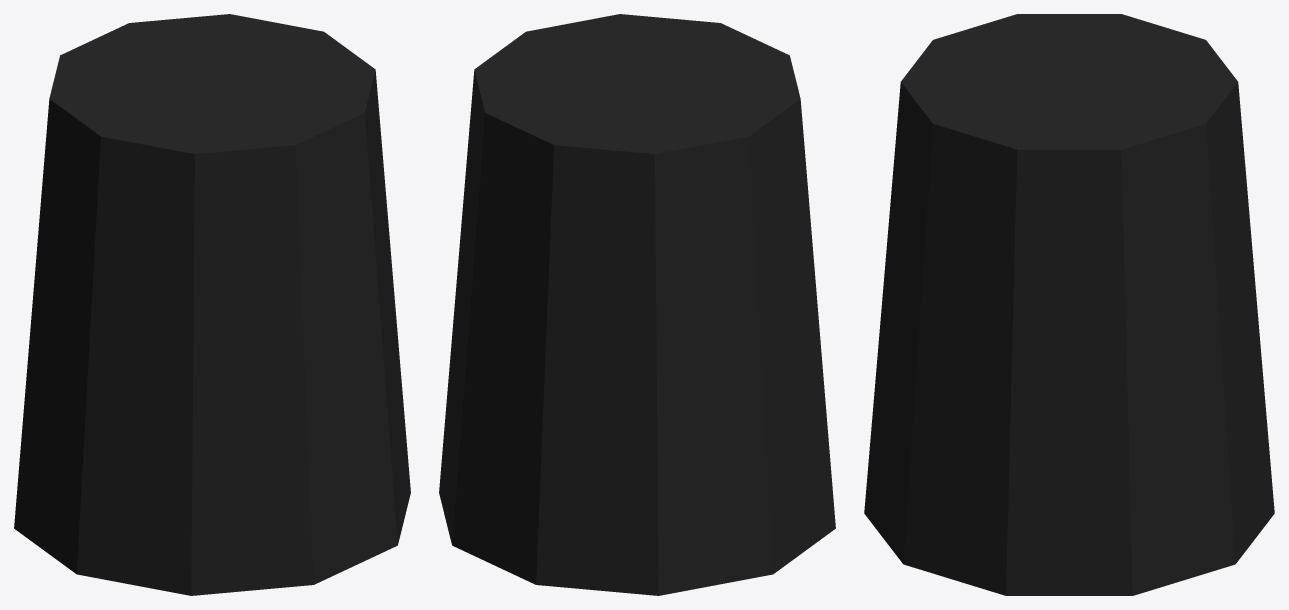
Rendered from dicecup01.gltf.
3 renders of one model, left to right at view 1: azimuth 30°, elevation 25°; view 2: azimuth 150°, elevation 25°; view 3: azimuth 270°, elevation 25°, orthographic.
Parts seen in each view (by area): view 1: Cylinder; view 2: Cylinder; view 3: Cylinder.
Part boxes in pixels (<box>): Cylinder: <box>14,14,410,595</box>; Cylinder: <box>439,14,835,595</box>; Cylinder: <box>864,14,1274,595</box>.
Size of the model in its own units: 0.0614 by 0.0749 by 0.0645.
1 material, 1 textured.
